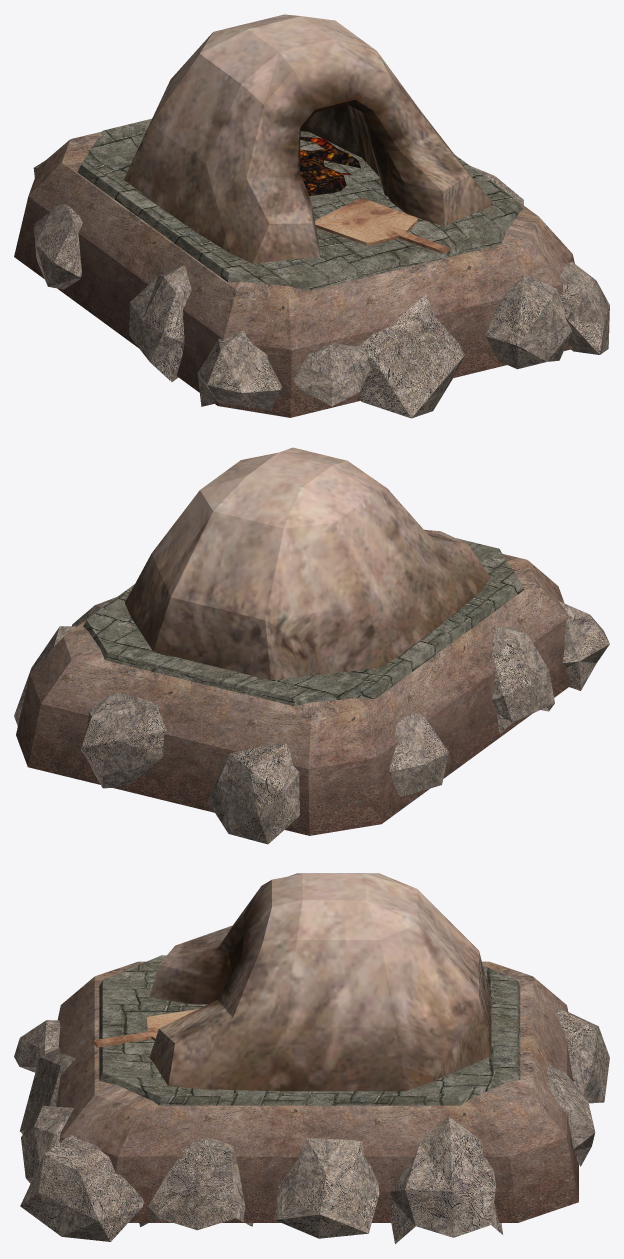
Rendered from thm_dant_mud_oven_l1.fbx.
3 views of the same model, one above another, from view 1: azimuth 30°, elevation 25°; view 2: azimuth 150°, elevation 25°; view 3: azimuth 270°, elevation 25° (orthographic).
Parts seen in each view (by area): view 1: mesh_node; view 2: mesh_node; view 3: mesh_node.
Boxes of the visible parts, <box> form: mesh_node: <box>14,14,609,418</box>; mesh_node: <box>14,447,609,844</box>; mesh_node: <box>14,873,609,1243</box>.
Bounding box in the file's own units: 4.23 × 2.55 × 5.05.
